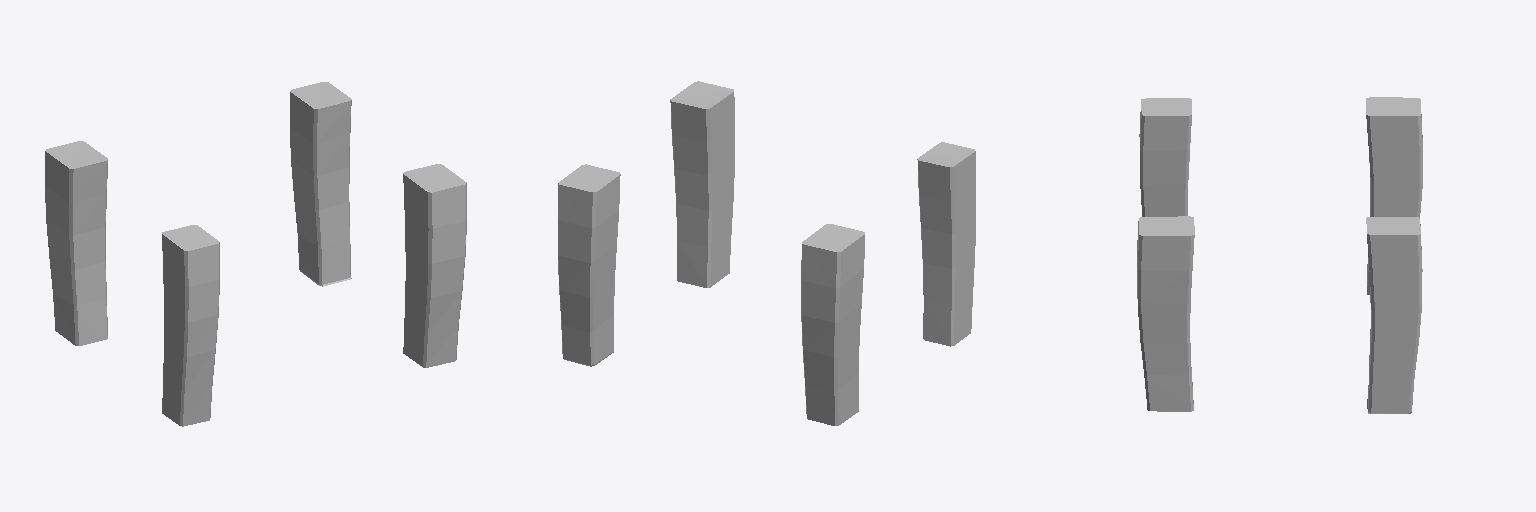
File: Colunas.obj
3 views of the same model, side by side, from view 1: azimuth 30°, elevation 25°; view 2: azimuth 150°, elevation 25°; view 3: azimuth 270°, elevation 25° (orthographic).
Parts seen in each view (by area): view 1: stlpy_dom_tehly; view 2: stlpy_dom_tehly; view 3: stlpy_dom_tehly.
Boxes of the visible parts, <box> form: stlpy_dom_tehly: <box>45,82,466,426</box>; stlpy_dom_tehly: <box>558,81,975,425</box>; stlpy_dom_tehly: <box>1137,97,1422,413</box>.
Bounding box in the file's own units: 0.0585 × 0.0353 × 0.0511.